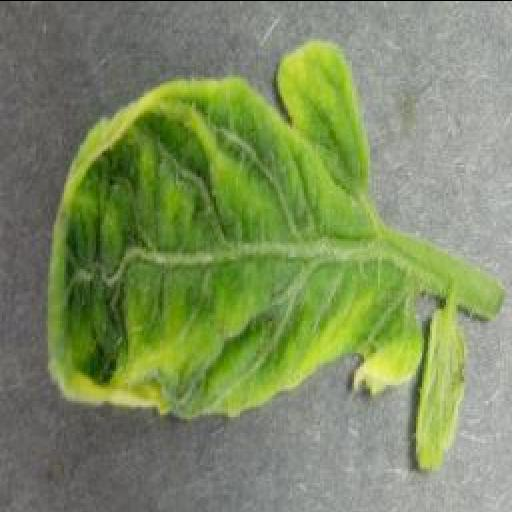disease_tomato: (44, 37, 422, 418), (410, 300, 476, 474)
